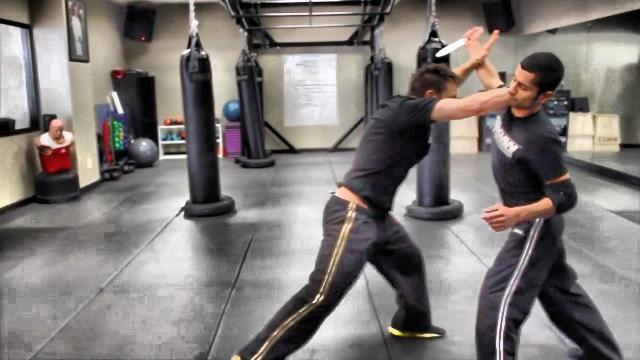knife: (430, 23, 486, 58)
